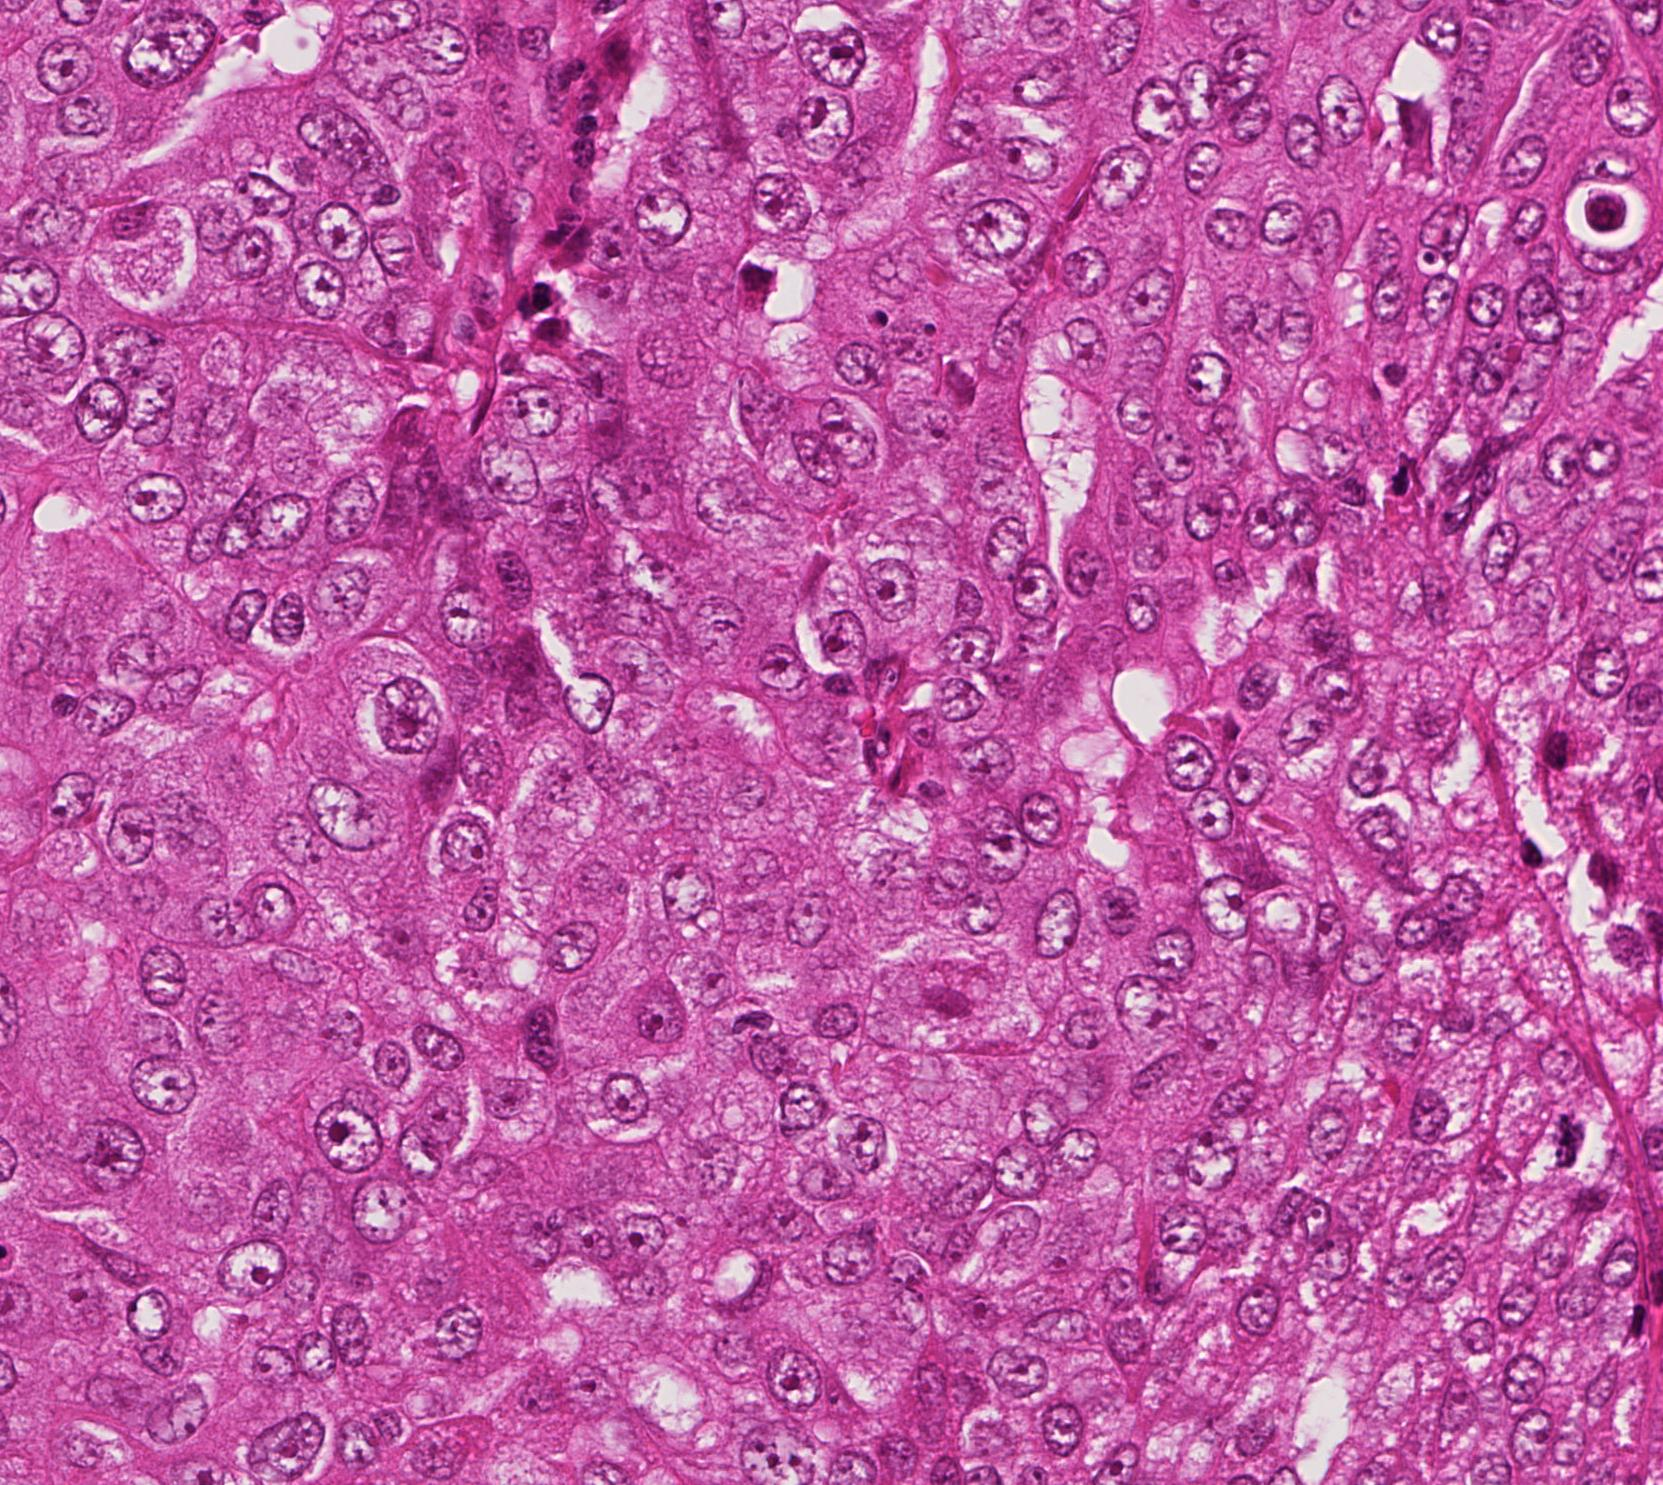mitosis: (1540, 1109, 1598, 1170)
